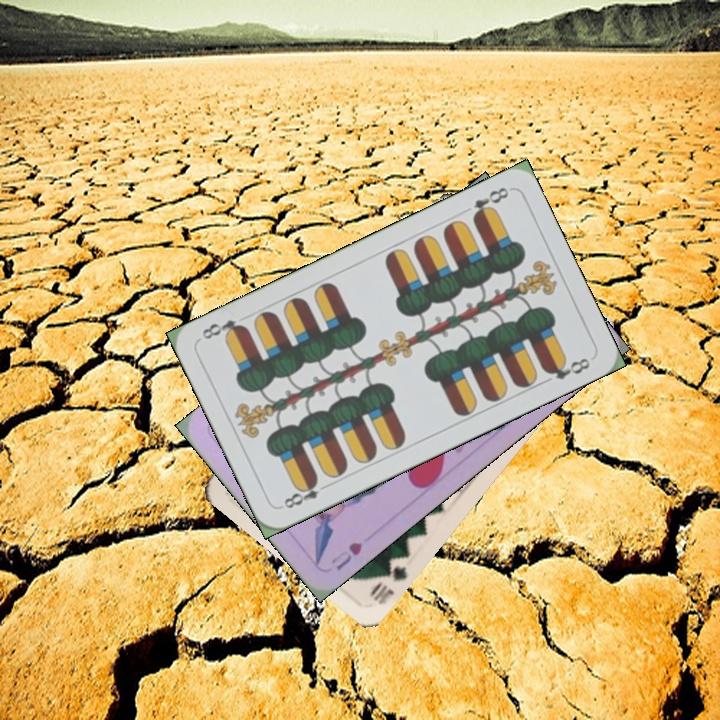E8: (280, 475, 333, 511), (468, 183, 512, 223)
G10: (365, 552, 410, 608)
HU: (326, 538, 365, 573)
